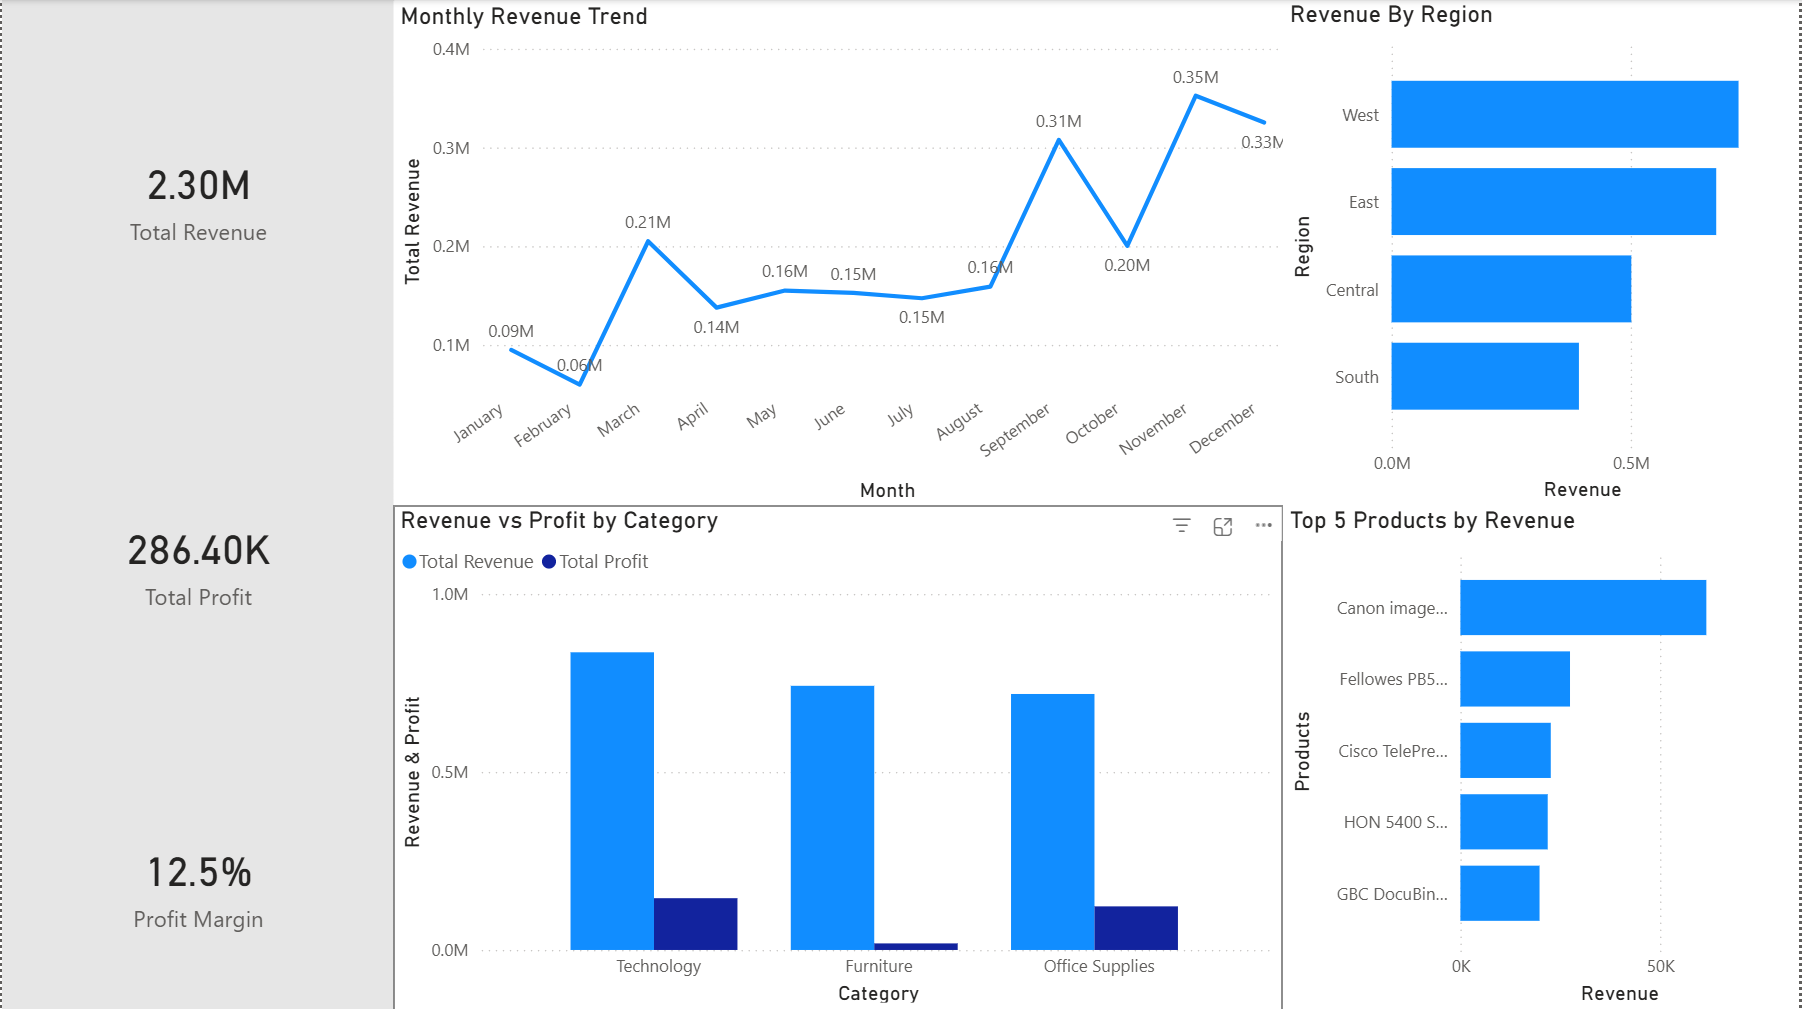

The page's visual inventory and layout, read from the dashboard file:
{"tool":"powerbi","page":{"name":"Page 1","canvas":[1280,720],"ordinal":0},"visuals":[{"type":"card","fields":{"Values":["Sum(Sample - Superstore.Sales)"]},"box":[0,0,279.3,280.4],"z":0},{"type":"card","fields":{"Values":["Sum(Sample - Superstore.Profit)"]},"box":[0,259.6,279.3,280.4],"z":1000},{"type":"card","fields":{"Values":["Sample - Superstore.Profit Margin"]},"box":[0,540,279.3,179.6],"z":2000},{"type":"lineChart","title":"Monthly Revenue Trend","fields":{"Category":["Sample - Superstore.Order Date.Variation.Date Hierarchy.Month"],"Y":["Sum(Sample - Superstore.Sales)"]},"box":[279.3,1.2,644.3,360.4],"z":3000},{"type":"clusteredColumnChart","title":"Revenue vs Profit by Category","fields":{"Category":["Sample - Superstore.Category"],"Y":["Sum(Sample - Superstore.Sales)","Sum(Sample - Superstore.Profit)"]},"box":[279.3,360.4,632.7,359.2],"z":4000},{"type":"clusteredBarChart","title":"Revenue By Region","fields":{"Category":["Sample - Superstore.Region"],"Y":["Sum(Sample - Superstore.Sales)"]},"box":[911.9,0,368.5,360.4],"z":5000},{"type":"barChart","title":"Top 5 Products by Revenue","fields":{"Category":["Sample - Superstore.Product Name"],"Y":["Sum(Sample - Superstore.Sales)"]},"box":[911.9,360.4,368.5,359.2],"z":6000}]}

Visuals, with their boxes in screenshot pixels (x1, y1, x2, y2), scaled from the page's 1280x720 canvas onto the 1802x1009 screenshot:
card - Sum(Sample - Superstore.Sales): <box>0,0,393,393</box>
card - Sum(Sample - Superstore.Profit): <box>0,364,393,757</box>
card - Sample - Superstore.Profit Margin: <box>0,757,393,1008</box>
"Monthly Revenue Trend" lineChart: <box>393,2,1300,507</box>
"Revenue vs Profit by Category" clusteredColumnChart: <box>393,505,1284,1008</box>
"Revenue By Region" clusteredBarChart: <box>1284,0,1801,505</box>
"Top 5 Products by Revenue" barChart: <box>1284,505,1801,1008</box>
